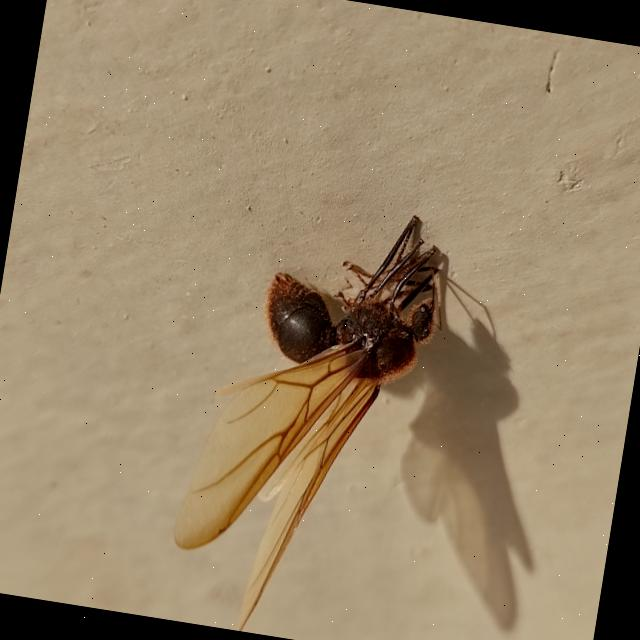Alive-Male-Alate: (156, 186, 458, 640)
